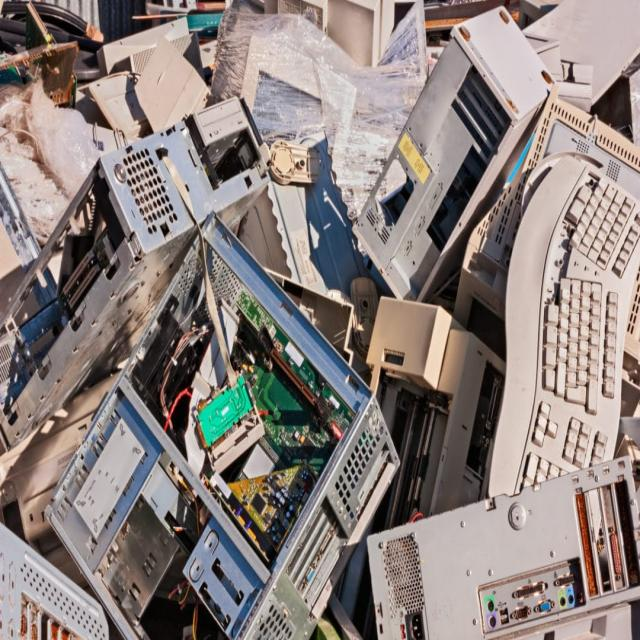hazard: (45, 210, 401, 635), (3, 97, 267, 449), (360, 9, 554, 299), (488, 164, 640, 499), (370, 460, 640, 640), (367, 296, 507, 532), (2, 524, 111, 640)
